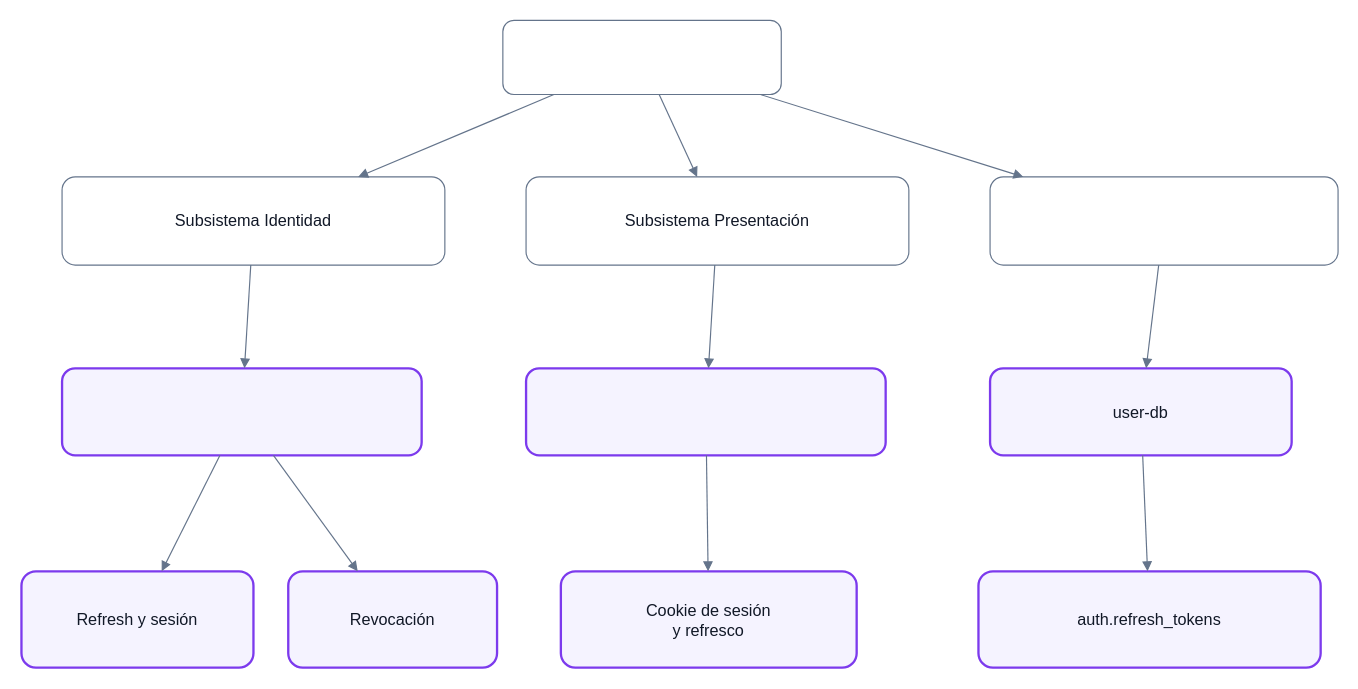
Some shapes in this 1358 by 689 pixel diagram are drawn without their labels. The box of each missing label's shape, as (x1, y1, x2, y2) in pixels:
auth-api: (60, 367, 422, 456)
CollaBoard: (502, 19, 781, 95)
Infraestructura de datos: (989, 176, 1338, 265)
web-ssr / BFF: (524, 367, 886, 456)
